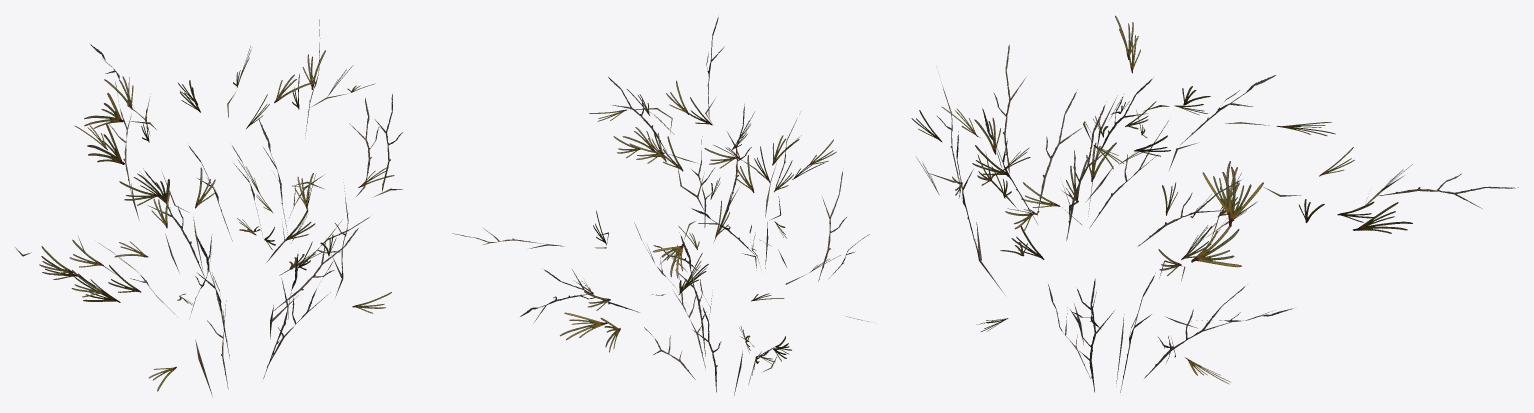
Rendered from rooibos.glb.
3 renders of one model, left to right at view 1: azimuth 30°, elevation 25°; view 2: azimuth 150°, elevation 25°; view 3: azimuth 270°, elevation 25°, orthographic. The views are drawn at different scales.
Visible parts, largest first — view 1: lod1; view 2: lod1; view 3: lod1.
Part boxes in pixels (left/top/right/bottom): lod1: left=15, top=19, right=402, bottom=396; lod1: left=452, top=17, right=869, bottom=395; lod1: left=911, top=15, right=1518, bottom=392.
Bounding box in the file's own units: 1.2 × 1.07 × 1.55.
Materials: 2 (2 with a texture image).
